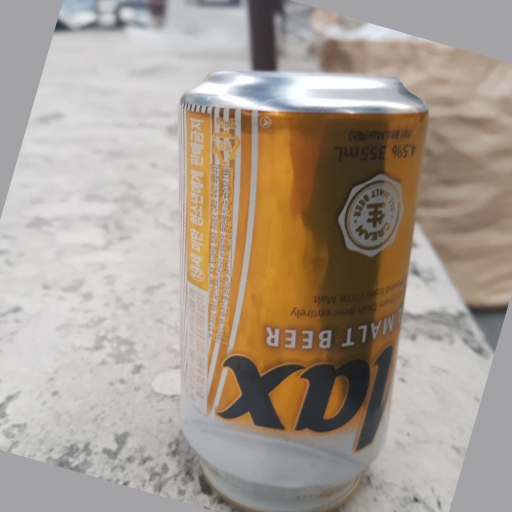Metal_0: (171, 70, 428, 506)
